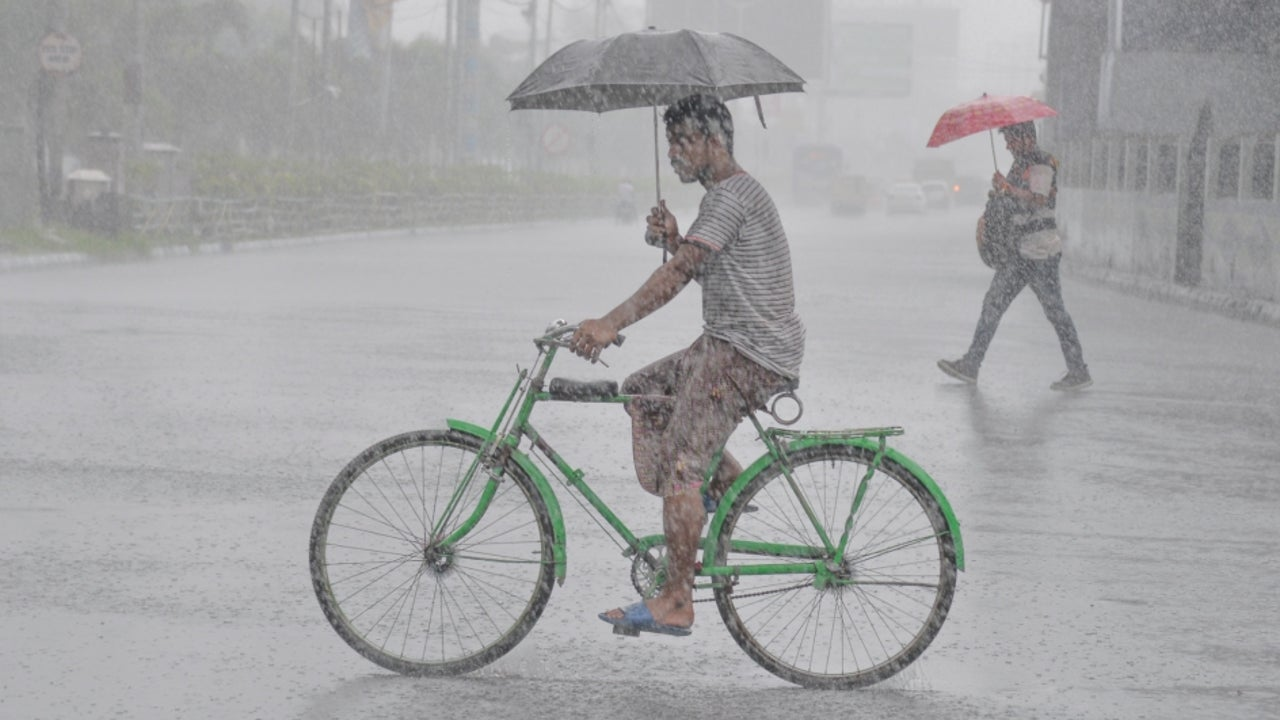person: (577, 90, 792, 630), (938, 119, 1086, 392)
